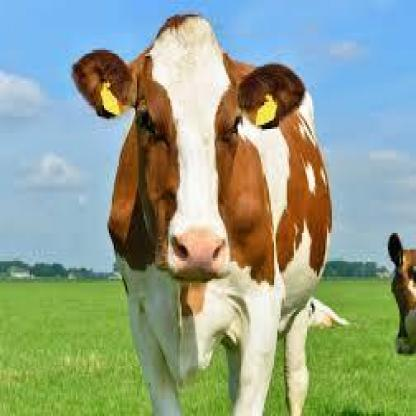cow: (71, 10, 350, 416), (389, 231, 416, 356), (306, 300, 354, 330)
